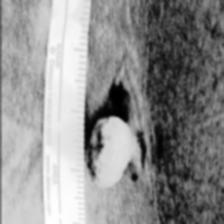Unclassified: (87, 114, 129, 184)
